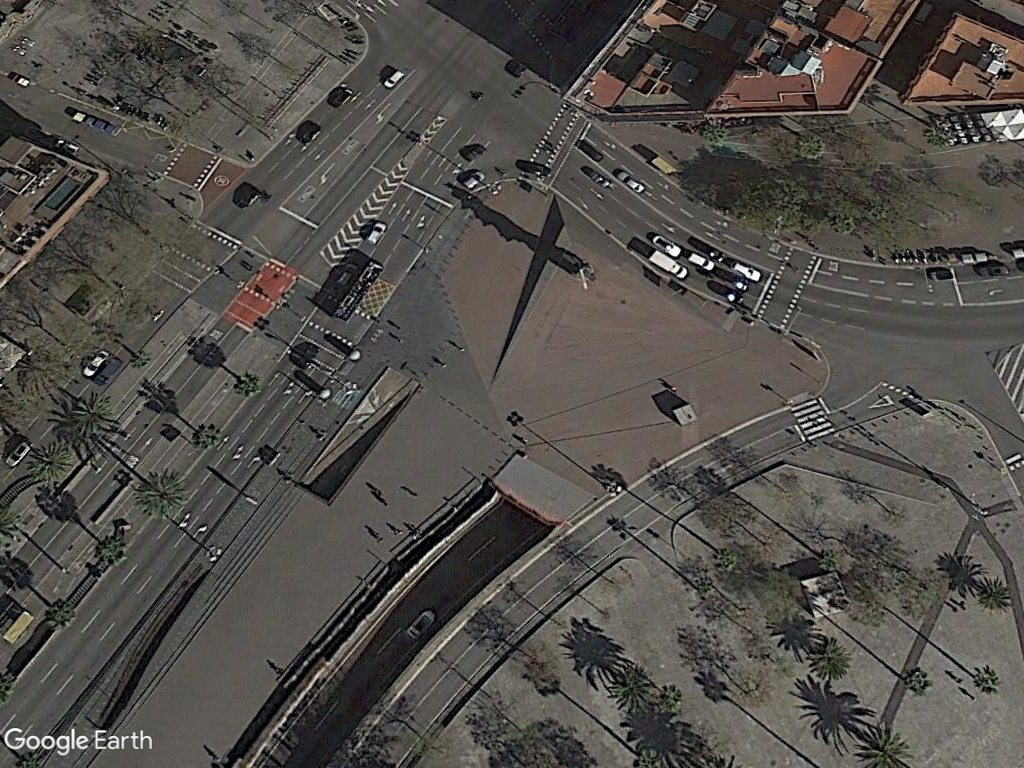car: (382, 67, 405, 91)
van: (642, 247, 689, 282)
